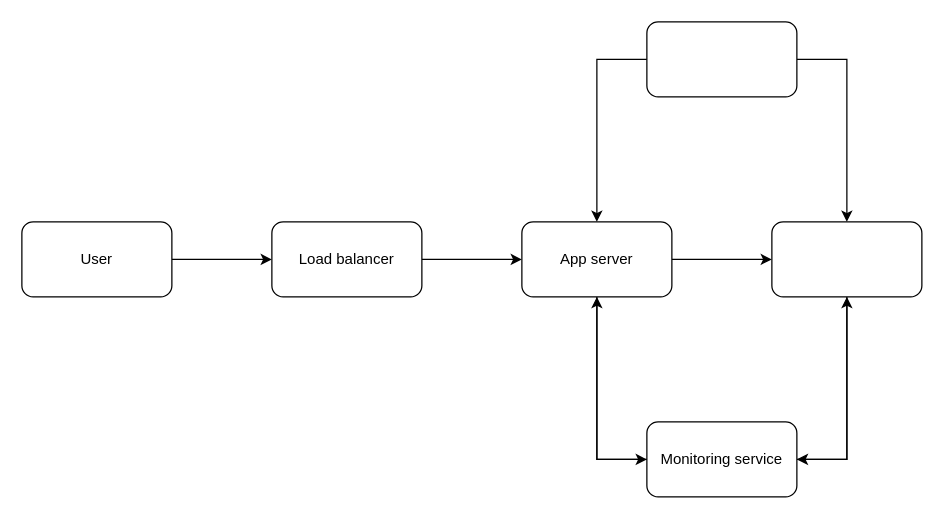
Some shapes in this 944 by 519 pixel diagram are drawn without their labels. The shapes that lost their labels are listed below. From the top down, each one's box as (x1, y1, x2, y2) in pixels, then its label:
(646, 21, 797, 97): Configuration service
(771, 221, 922, 297): Cache shards
